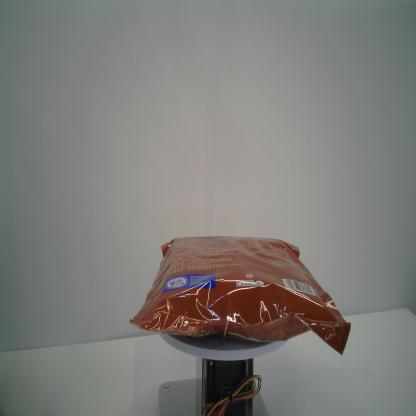Dried Food: (127, 236, 352, 358)
